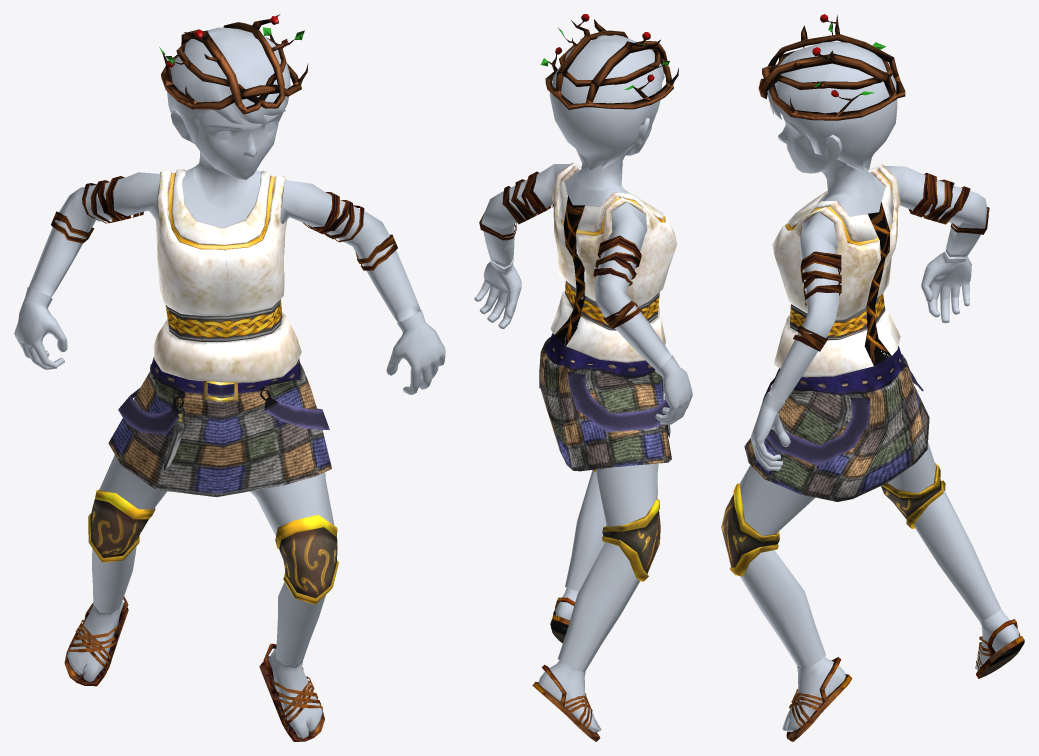
File: F_dea_matrona_pose.gltf
3 views of the same model, side by side, from view 1: azimuth 30°, elevation 25°; view 2: azimuth 150°, elevation 25°; view 3: azimuth 270°, elevation 25° (orthographic). The views are drawn at different scales.
Parts seen in each view (by area): view 1: F_LOWERBODY_DEA, F_UPPERBODY_DEA, F_Feet_DEA, M_Hair_Standard_01.004, F_Head_BaseMesh.001, ShapeA_Hands_BaseMesh.006, F_TIARA_DEA; view 2: F_LOWERBODY_DEA, F_UPPERBODY_DEA, M_Hair_Standard_01.004, F_TIARA_DEA, ShapeA_Hands_BaseMesh.006, F_Feet_DEA, F_Head_BaseMesh.001; view 3: F_LOWERBODY_DEA, F_UPPERBODY_DEA, M_Hair_Standard_01.004, F_TIARA_DEA, F_Feet_DEA, ShapeA_Hands_BaseMesh.006, F_Head_BaseMesh.001.
Part boxes in pixels (<box>): F_LOWERBODY_DEA: <box>88,357,338,667</box>; F_UPPERBODY_DEA: <box>29,167,420,382</box>; F_Feet_DEA: <box>64,596,324,741</box>; M_Hair_Standard_01.004: <box>167,27,290,144</box>; F_Head_BaseMesh.001: <box>170,109,281,209</box>; ShapeA_Hands_BaseMesh.006: <box>14,287,445,394</box>; F_TIARA_DEA: <box>159,14,308,114</box>; F_LOWERBODY_DEA: <box>539,333,671,671</box>; F_UPPERBODY_DEA: <box>479,162,677,369</box>; M_Hair_Standard_01.004: <box>549,35,664,170</box>; F_TIARA_DEA: <box>540,14,678,109</box>; ShapeA_Hands_BaseMesh.006: <box>474,257,692,424</box>; F_Feet_DEA: <box>532,587,601,741</box>; F_Head_BaseMesh.001: <box>575,118,652,190</box>; F_LOWERBODY_DEA: <box>721,346,1001,668</box>; F_UPPERBODY_DEA: <box>769,164,989,401</box>; M_Hair_Standard_01.004: <box>767,41,897,172</box>; F_TIARA_DEA: <box>758,14,905,120</box>; F_Feet_DEA: <box>782,609,1024,741</box>; ShapeA_Hands_BaseMesh.006: <box>751,243,971,470</box>; F_Head_BaseMesh.001: <box>778,116,875,200</box>.
Size of the model in its own units: 1.79 by 3.78 by 1.52.
Materials: 3 (2 with a texture image).
